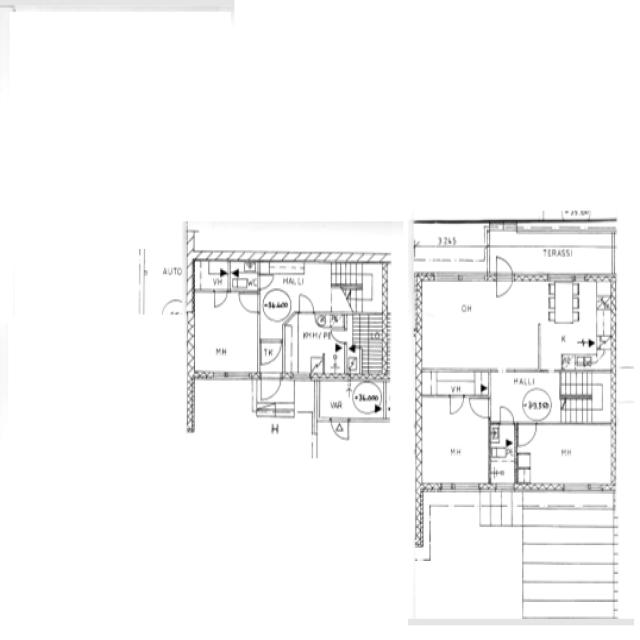door: (492, 253, 516, 300), (257, 338, 284, 366), (259, 372, 283, 402), (514, 421, 539, 449), (156, 296, 186, 318), (236, 290, 261, 316), (329, 415, 351, 443), (468, 396, 492, 421), (297, 292, 316, 315), (328, 327, 349, 347), (497, 404, 516, 426), (446, 394, 464, 417), (210, 289, 229, 310)
window: (198, 368, 258, 385), (424, 270, 487, 286), (434, 479, 482, 499)
zone: (418, 279, 546, 371), (515, 423, 614, 492), (543, 277, 612, 370), (420, 396, 489, 486), (194, 288, 259, 376), (288, 312, 346, 379), (342, 314, 388, 378), (489, 422, 518, 491), (418, 370, 486, 397), (190, 260, 238, 293), (350, 378, 386, 418), (490, 422, 518, 448)
